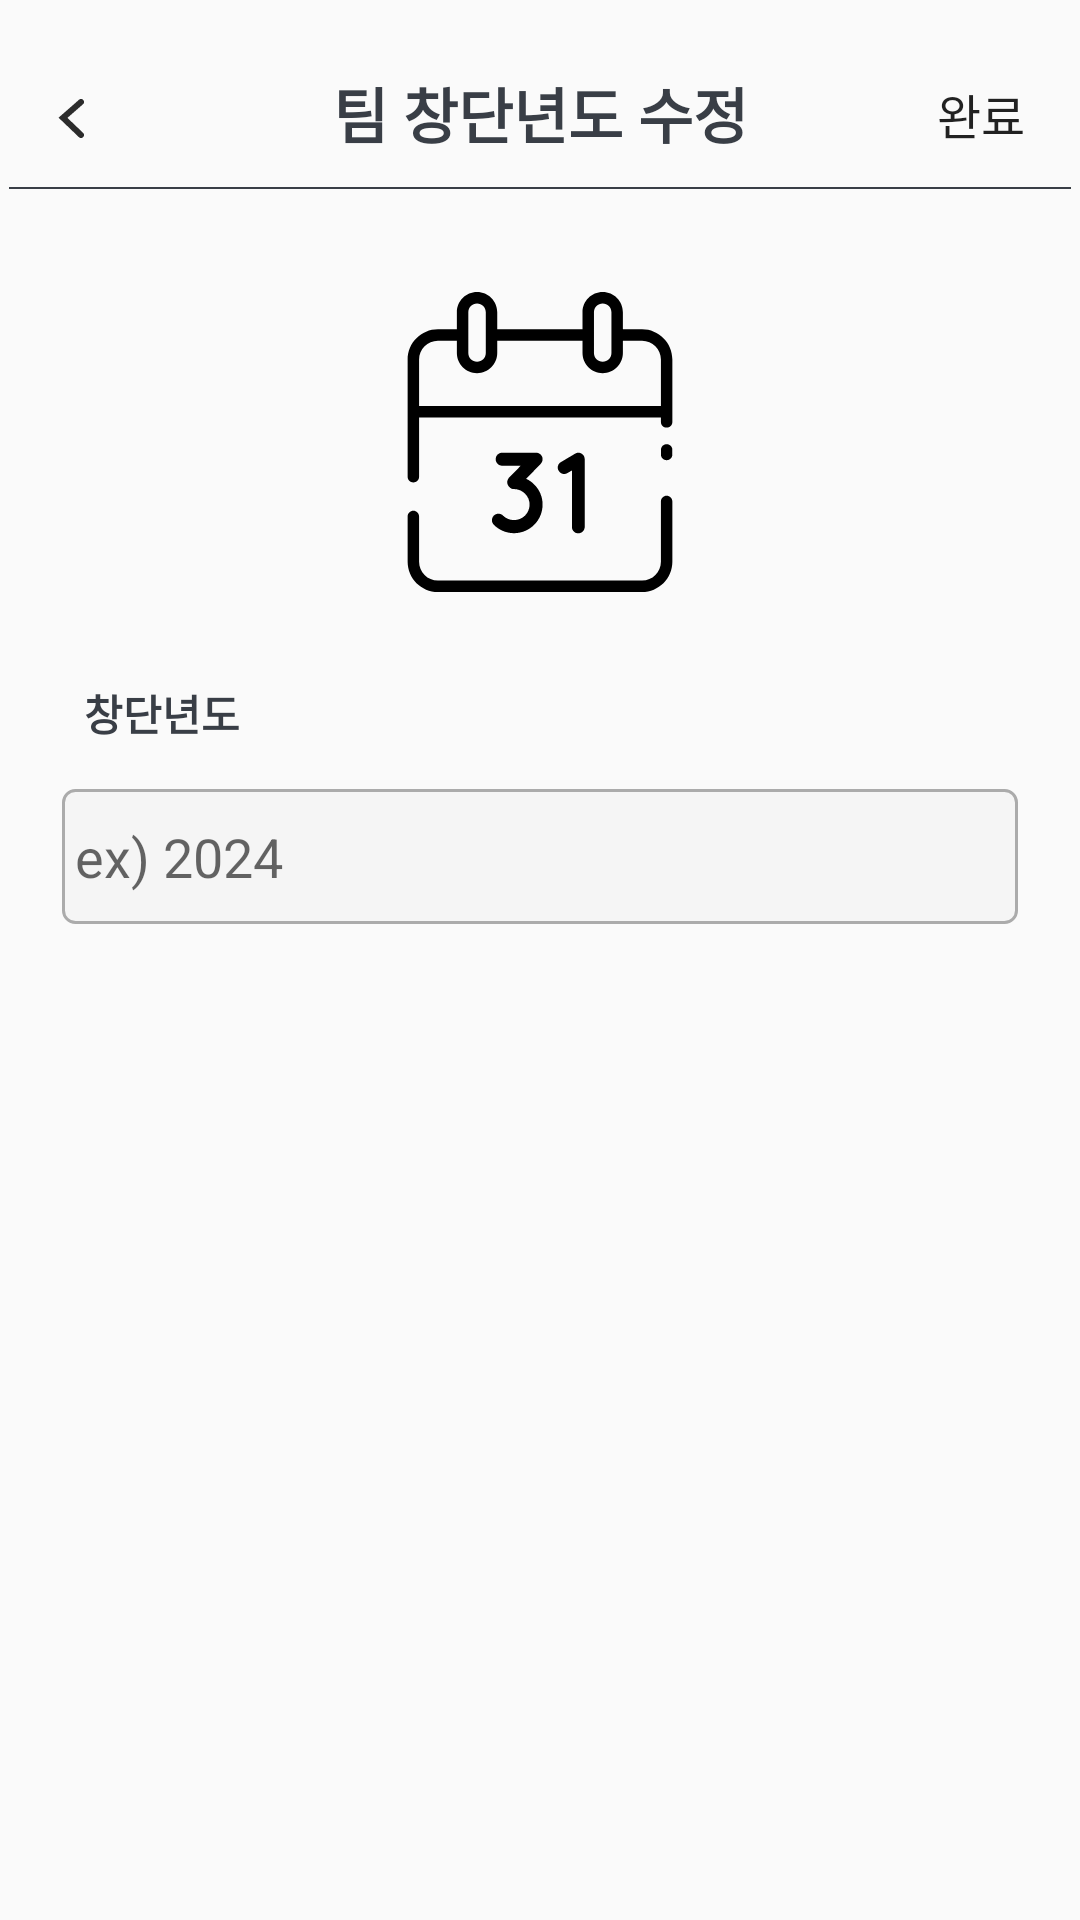

Icons on this 1080px x 1920px Android screen, each with the point to tap as (x=x, y=y):
arrow: (x=71, y=118)
